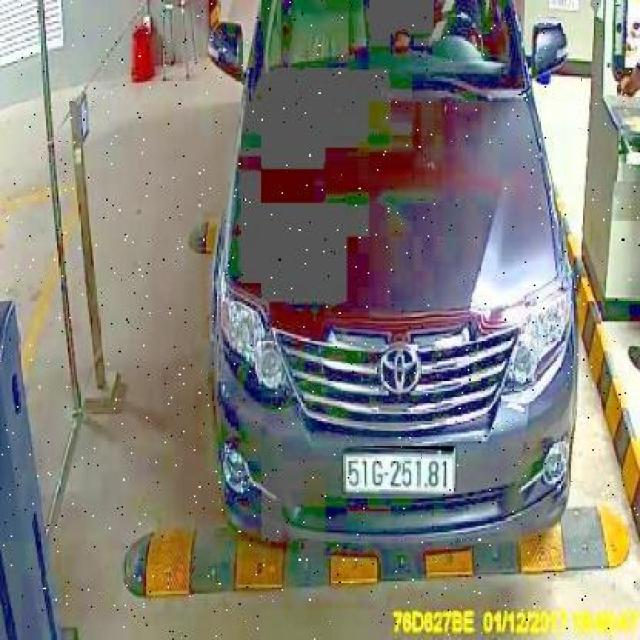number_plate: (344, 446, 454, 494)
